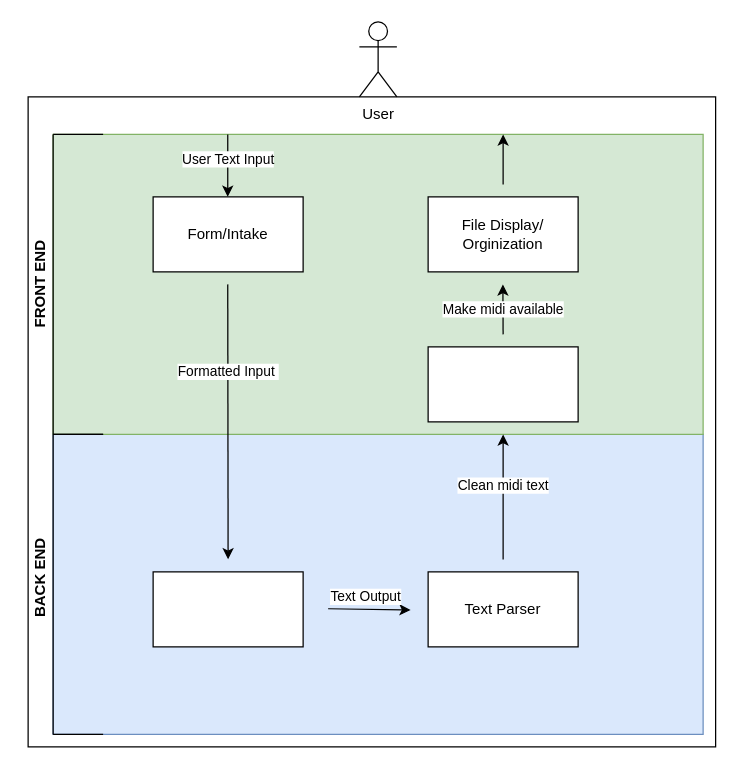
The diagram is 738 pixels wide and 769 high, and some of its shapes have lost their labels. Here are the shapes that lost their labels. From the top down, the centre of each, then its label:
At point 502,384: "To Midi Processor (Libary)".
At point 227,609: "GPT API".
